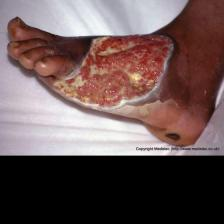Wound: (54, 31, 177, 113)
